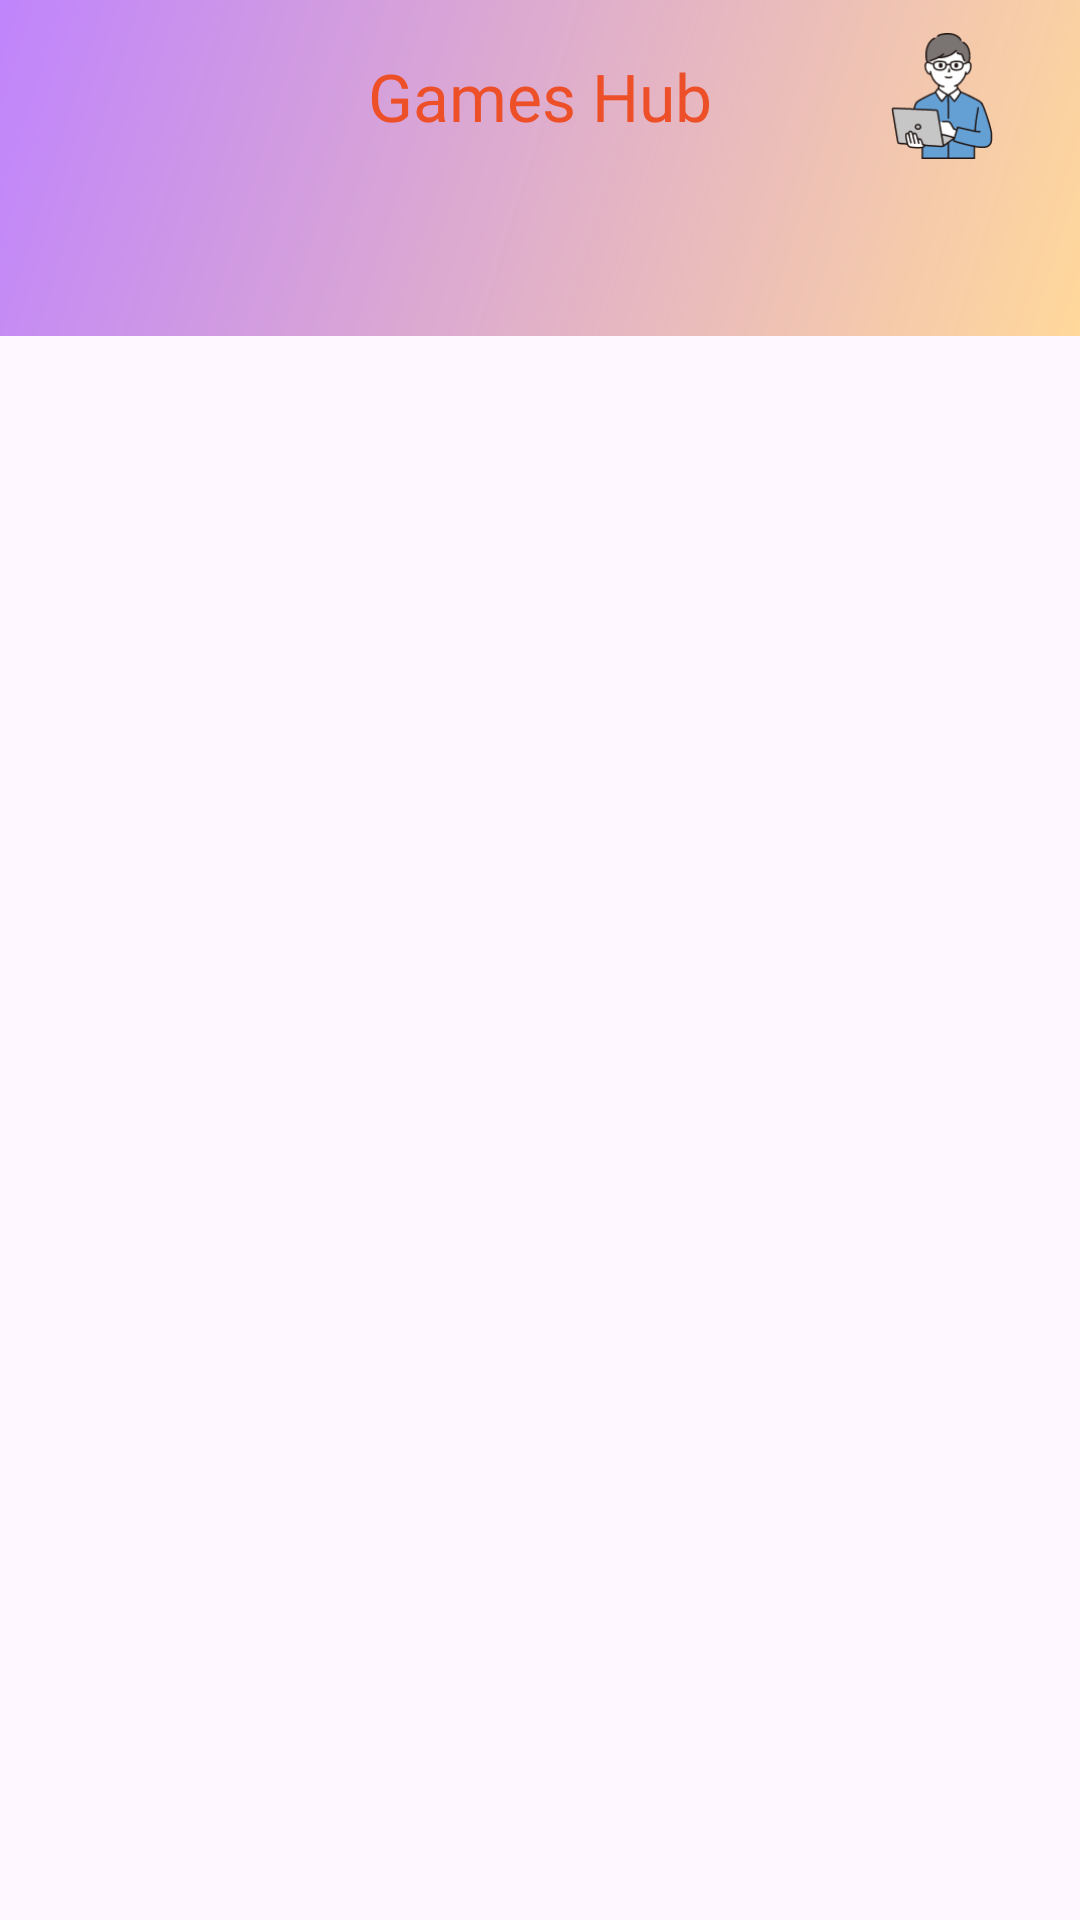

Screen size 1080w x 1920h. Icon name, then its box in pixels as {"left": x1, "top": y1, "right": x2, "bottom": y2}:
programer: {"left": 891, "top": 33, "right": 993, "bottom": 159}
